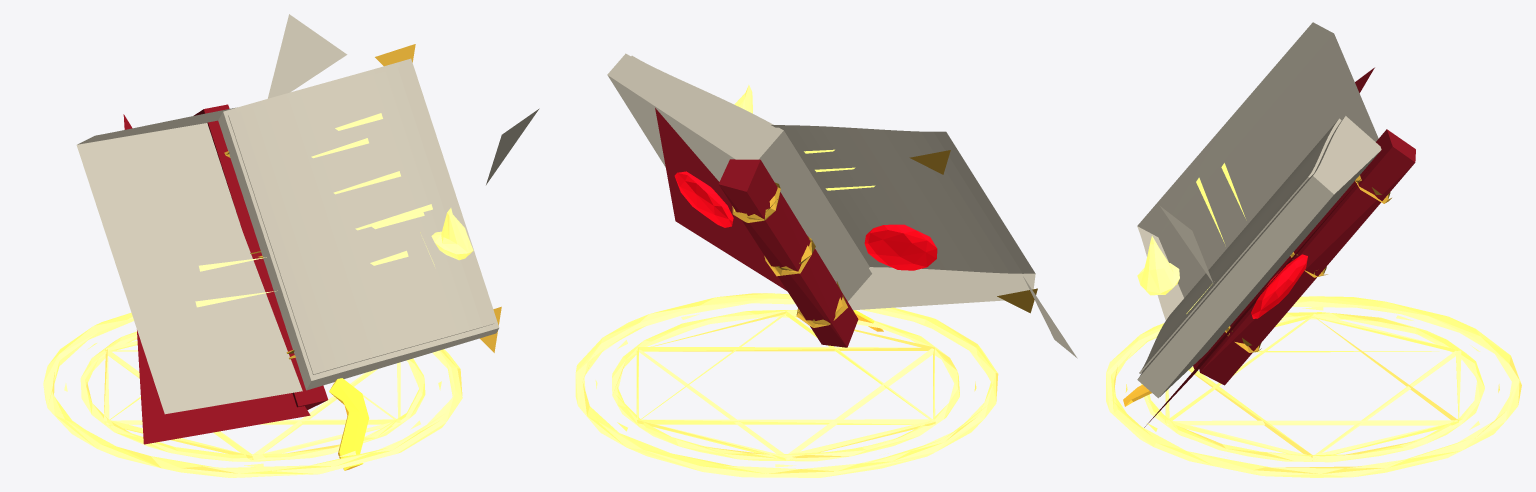
Rendered from tome_3.glb.
The picture shows the model from 3 angles, left to right: view 1: azimuth 30°, elevation 25°; view 2: azimuth 150°, elevation 25°; view 3: azimuth 270°, elevation 25°; orthographic projection.
Parts seen in each view (by area): view 1: Page__022, CoverL__002, CoverR__011, Circle__033, CoverL__001, Circle__034, Book__026, Orbit__056, Book__032, Circle__035, Orbit__057, Orbit__054 (+2 smaller); view 2: CoverL__002, CoverR__011, Circle__033, Book__026, Circle__034, CoverR__010, CoverL__030, Circle__035, Circle__040, CoverR__031, Circle__036, Circle__037 (+3 smaller); view 3: CoverL__002, CoverR__011, Book__026, Circle__033, Page__022, Circle__034, Circle__035, Circle__041, Orbit__057, CoverR__031, Circle__036, Circle__038 (+4 smaller).
Boxes of the visible parts, left/top/right/bottom form: Page__022: left=228, top=64, right=494, bottom=374; CoverL__002: left=76, top=107, right=302, bottom=414; CoverR__011: left=218, top=58, right=499, bottom=390; Circle__033: left=43, top=312, right=462, bottom=477; CoverL__001: left=123, top=114, right=310, bottom=444; Circle__034: left=80, top=331, right=425, bottom=461; Book__026: left=193, top=104, right=328, bottom=409; Orbit__056: left=268, top=14, right=347, bottom=98; Book__032: left=329, top=378, right=369, bottom=470; Circle__035: left=103, top=341, right=400, bottom=460; Orbit__057: left=431, top=208, right=473, bottom=260; Orbit__054: left=486, top=108, right=539, bottom=184; CoverL__002: left=771, top=125, right=1035, bottom=310; CoverR__011: left=607, top=53, right=871, bottom=301; Circle__033: left=575, top=293, right=998, bottom=477; Book__026: left=718, top=159, right=858, bottom=347; Circle__034: left=612, top=310, right=959, bottom=461; CoverR__010: left=655, top=108, right=786, bottom=290; CoverL__030: left=864, top=224, right=937, bottom=270; Circle__035: left=636, top=311, right=935, bottom=460; Circle__040: left=637, top=419, right=934, bottom=424; CoverR__031: left=674, top=171, right=733, bottom=227; Circle__036: left=637, top=347, right=934, bottom=351; Circle__037: left=786, top=348, right=935, bottom=459; CoverL__002: left=1137, top=22, right=1378, bottom=320; CoverR__011: left=1137, top=116, right=1381, bottom=398; Book__026: left=1197, top=129, right=1415, bottom=385; Circle__033: left=1106, top=296, right=1521, bottom=477; Page__022: left=1139, top=118, right=1341, bottom=373; Circle__034: left=1140, top=312, right=1484, bottom=462; Circle__035: left=1165, top=313, right=1461, bottom=459; Circle__041: left=1167, top=420, right=1458, bottom=425; Orbit__057: left=1137, top=236, right=1179, bottom=295; CoverR__031: left=1251, top=254, right=1307, bottom=318; Circle__036: left=1188, top=366, right=1312, bottom=460; Circle__038: left=1310, top=350, right=1455, bottom=458.
Size of the model in its own units: 0.3175 by 0.189 by 0.2346.
